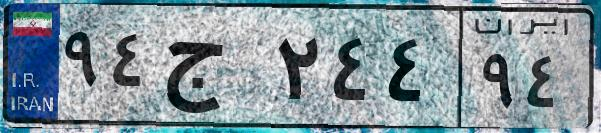2: (270, 28, 330, 110)
4: (385, 28, 445, 110), (330, 28, 385, 110), (525, 38, 570, 115), (110, 28, 158, 98)
9: (57, 26, 110, 100), (475, 38, 525, 113)
ج: (158, 20, 270, 120)
